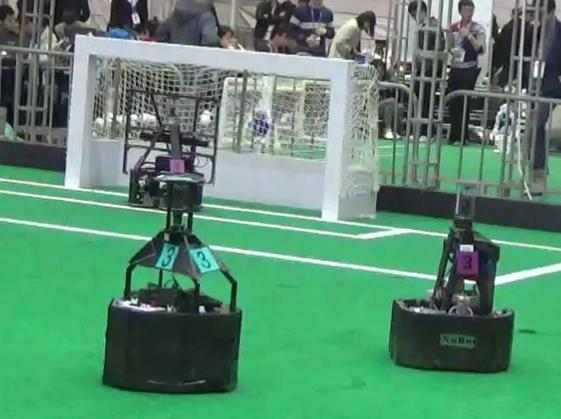robot: (100, 163, 244, 397), (379, 163, 526, 378)
